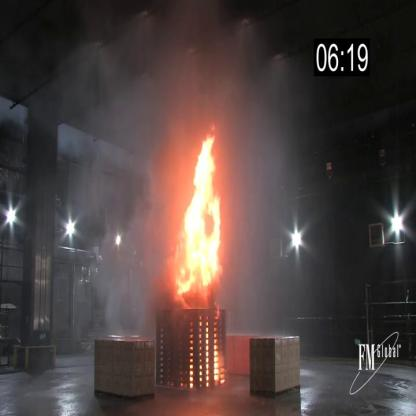fire: (169, 131, 229, 298)
